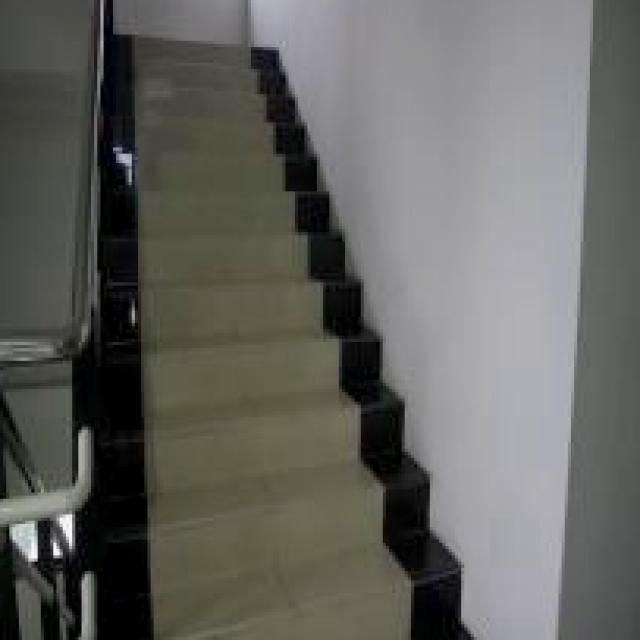upstair: (117, 38, 346, 640)
